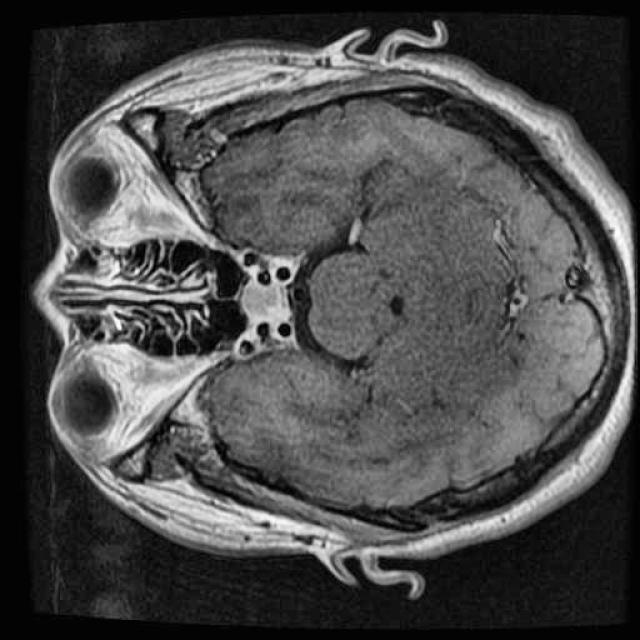Tumor: (235, 272, 298, 329)
